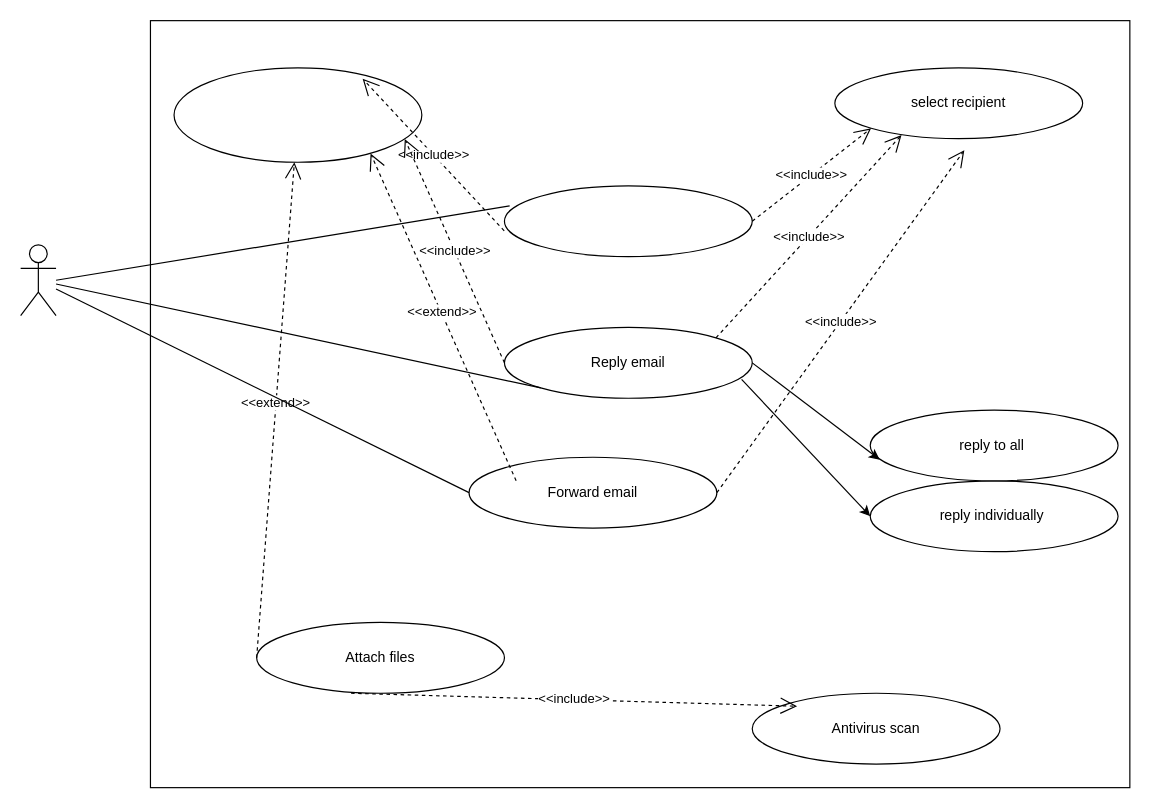
Image size: 1151x808. Some labels were removed from this diagram. The shapes that lost their labels are listed below. From the top down, each one's centre as x and y in pixels, then its label:
[297,114]: Compose email
[627,221]: Send email
[37,280]: User
